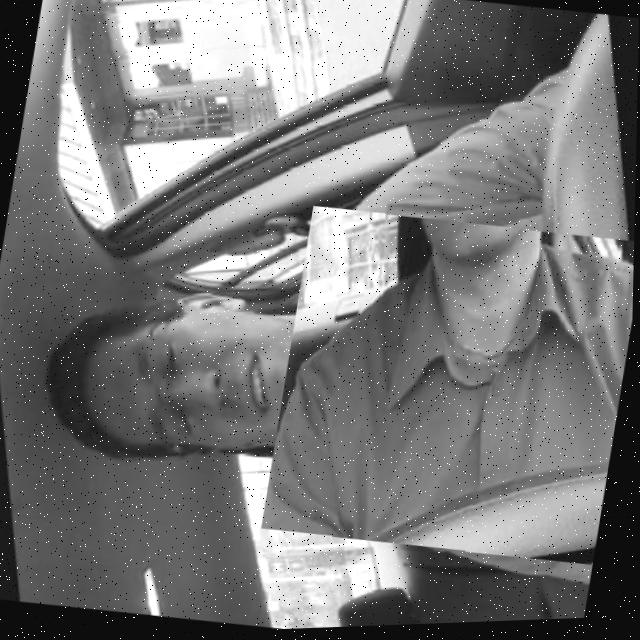seatbelt: (267, 192, 636, 584)
